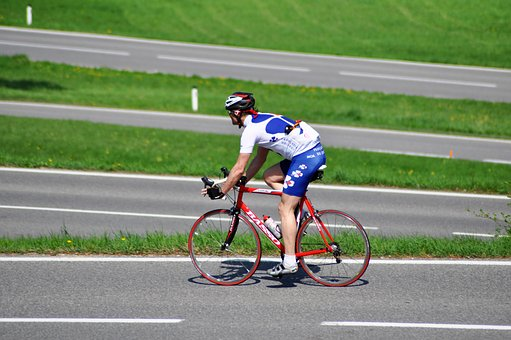bikerider: (177, 85, 380, 291)
